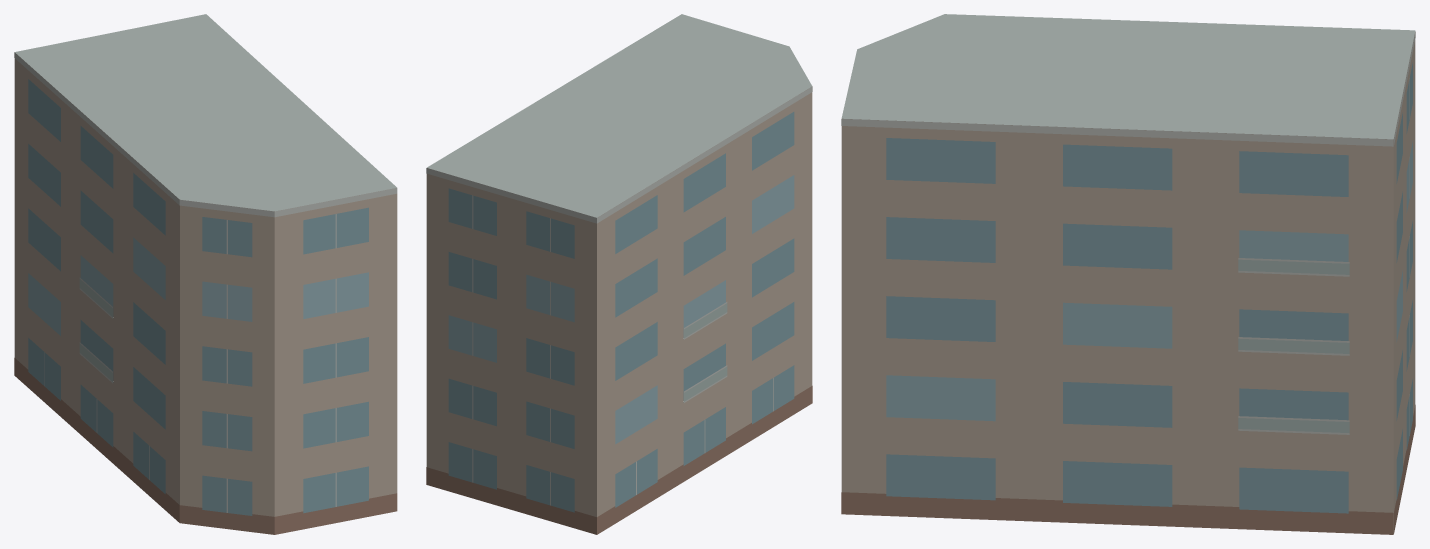
The model's file is survey-upis-32956260.glb.
3 renders of one model, left to right at view 1: azimuth 30°, elevation 25°; view 2: azimuth 150°, elevation 25°; view 3: azimuth 270°, elevation 25°, orthographic. The views are drawn at different scales.
Parts seen in each view (by area): view 1: survey-upis-32956260.tmp; view 2: survey-upis-32956260.tmp; view 3: survey-upis-32956260.tmp.
Boxes of the visible parts, left/top/right/bottom form: survey-upis-32956260.tmp: left=14, top=14, right=397, bottom=534; survey-upis-32956260.tmp: left=426, top=14, right=812, bottom=534; survey-upis-32956260.tmp: left=841, top=14, right=1415, bottom=534.
Size of the model in its own units: 9.12 by 13.4 by 17.64.
